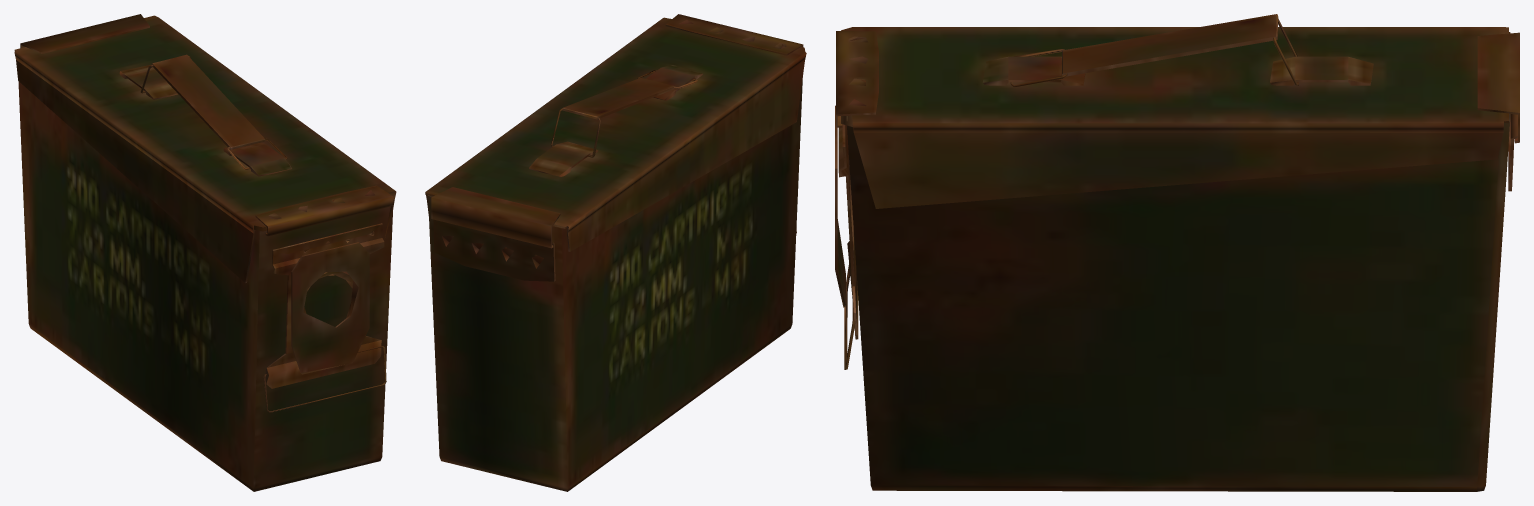
File: ammo_box.glb
The picture shows the model from 3 angles, left to right: view 1: azimuth 30°, elevation 25°; view 2: azimuth 150°, elevation 25°; view 3: azimuth 270°, elevation 25°; orthographic projection. The views are drawn at different scales.
Parts seen in each view (by area): view 1: ammo_box, ammo_box_handle; view 2: ammo_box, ammo_box_handle; view 3: ammo_box, ammo_box_handle.
Part boxes in pixels (<box>): ammo_box: <box>14,14,396,491</box>; ammo_box_handle: <box>151,54,265,149</box>; ammo_box: <box>425,14,806,491</box>; ammo_box_handle: <box>562,78,675,119</box>; ammo_box: <box>835,27,1519,491</box>; ammo_box_handle: <box>1062,14,1278,76</box>.
Size of the model in its own units: 0.0855 by 0.1758 by 0.2576.
Materials: 1 (1 with a texture image).
